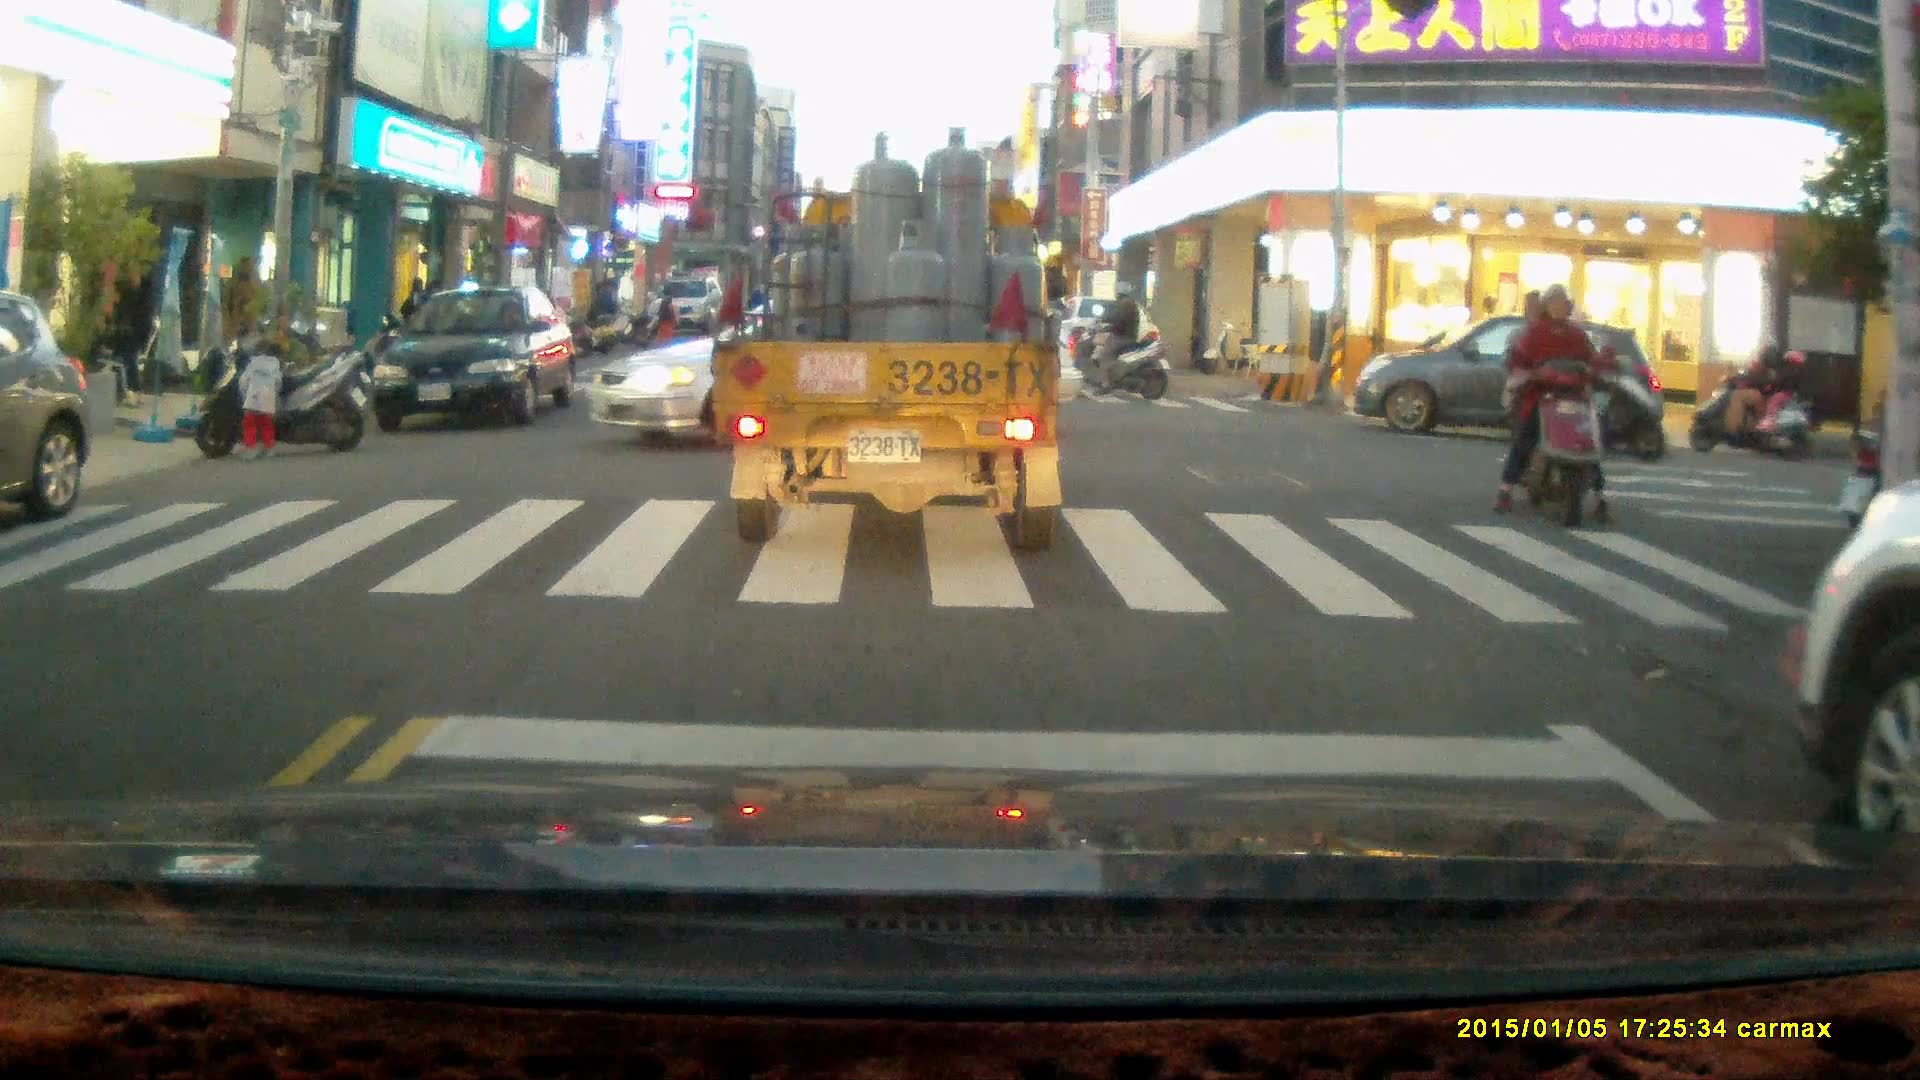pedestrian: (236, 339, 288, 462), (595, 277, 622, 339), (656, 285, 680, 343)
rider: (1490, 285, 1610, 529), (1522, 306, 1665, 459), (1691, 336, 1807, 460), (1075, 282, 1170, 403)
vehicle: (711, 125, 1065, 546), (583, 284, 1075, 445), (1801, 482, 1920, 885), (1346, 314, 1659, 466), (363, 287, 579, 433), (1066, 297, 1168, 383), (651, 278, 728, 334)
